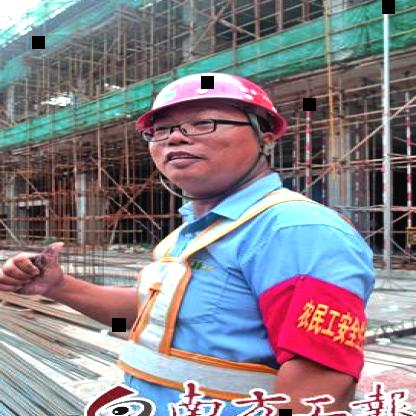helmet: (124, 51, 297, 203)
